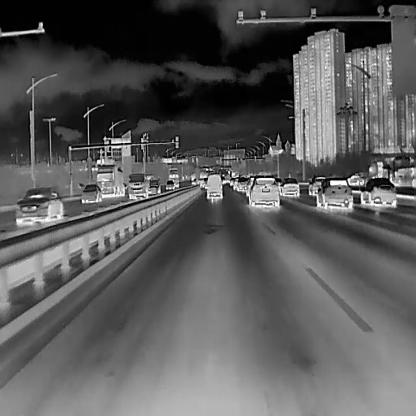car: (13, 187, 63, 226), (315, 175, 353, 209), (359, 176, 396, 206), (247, 176, 279, 208), (206, 174, 222, 199), (80, 183, 100, 201), (281, 177, 299, 197), (308, 174, 319, 195), (148, 177, 159, 193), (245, 178, 254, 195), (237, 176, 247, 191), (164, 179, 174, 189)
truck: (96, 164, 124, 197), (128, 172, 148, 199), (166, 167, 178, 186)
